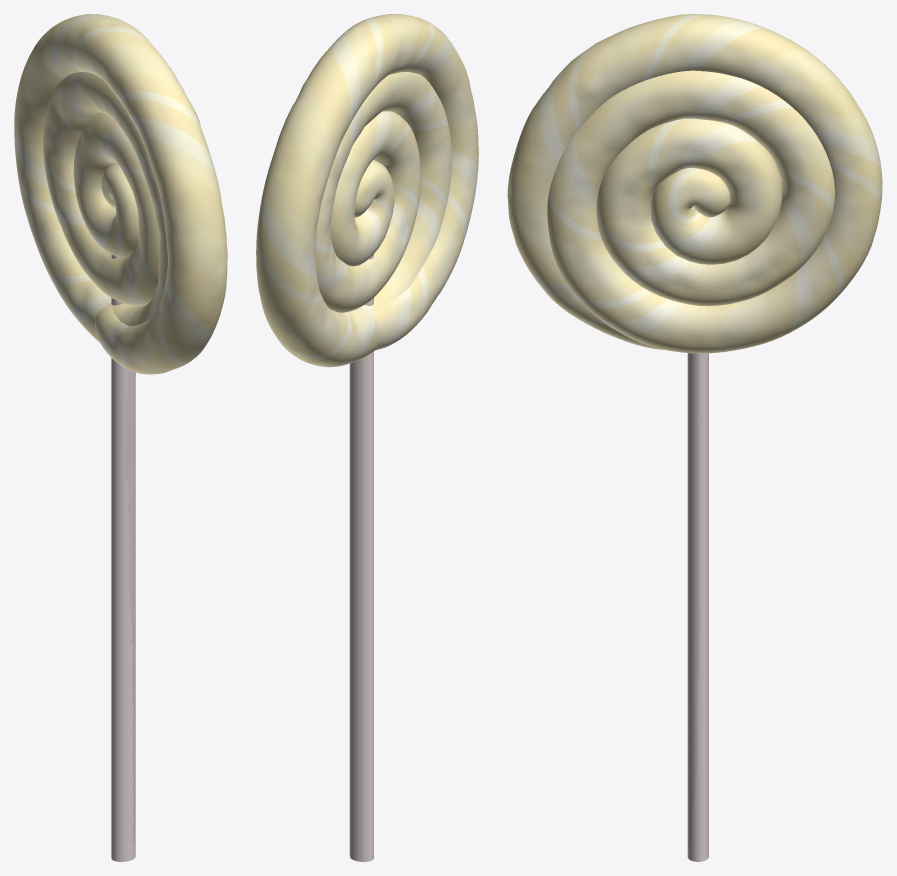
Rendered from yellow.glb.
3 renders of one model, left to right at view 1: azimuth 30°, elevation 25°; view 2: azimuth 150°, elevation 25°; view 3: azimuth 270°, elevation 25°, orthographic.
Visible parts, largest first — view 1: lolipop7; view 2: lolipop7; view 3: lolipop7.
Boxes of the visible parts, x1,y1,x2,y2 form: lolipop7: [14, 14, 227, 861]; lolipop7: [256, 14, 478, 861]; lolipop7: [507, 14, 882, 861].
Bounding box in the file's own units: 0.3661 × 4.3 × 1.75.
1 material, 1 textured.
